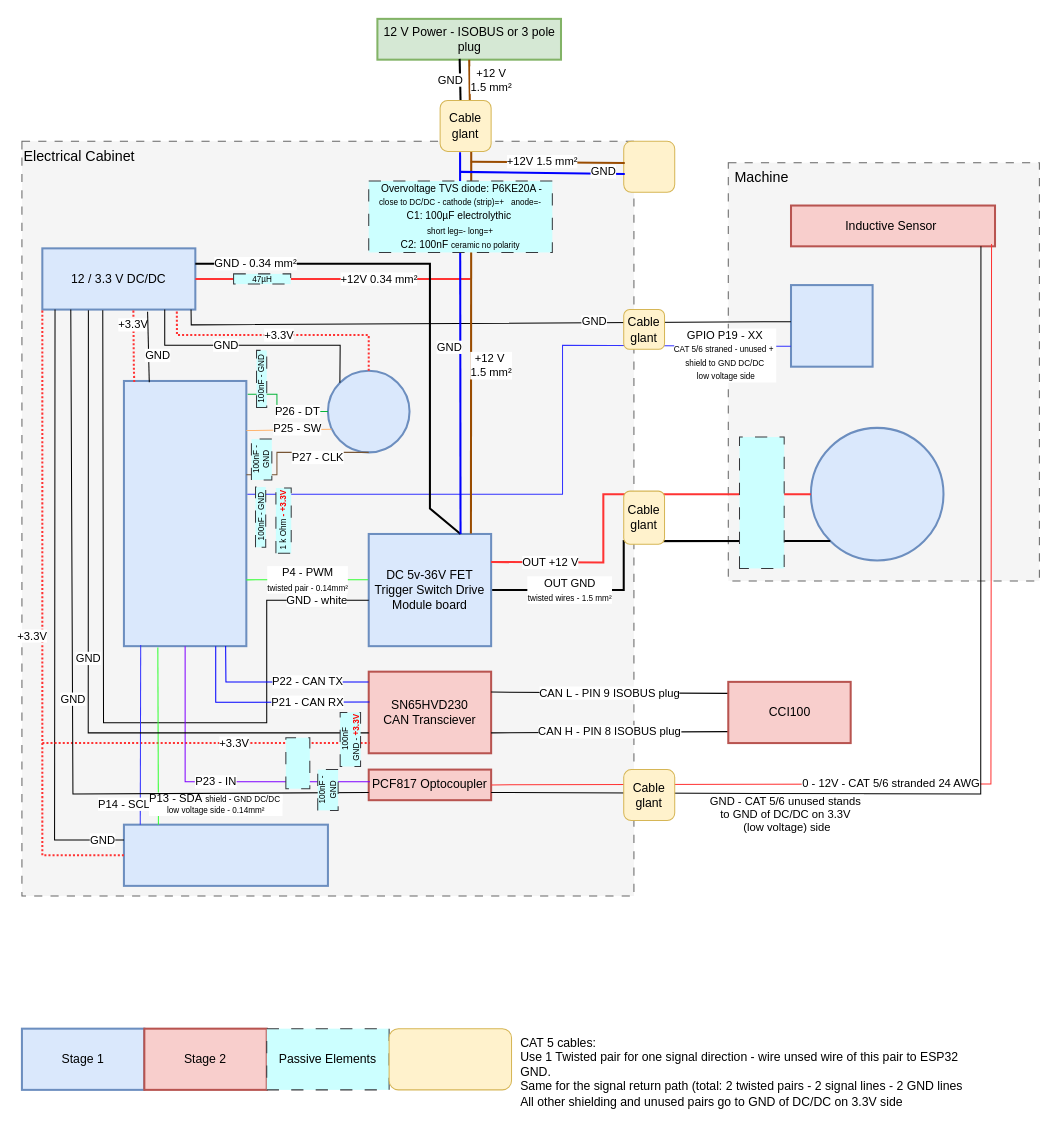
Image size: 1058x1127. Some labels were removed from this diagram. The box of each missing label's shape, as (x1, y1, x2, y2) in pixels:
20x4 I2C Display: (122, 823, 328, 886)
25 k Ohm - + 3.3V: (285, 737, 310, 789)
3 pole socket: (623, 140, 675, 192)
Connectors: (388, 1028, 512, 1090)
diode mbr2045 CT P2-OUT=+12V P1,3 OUT= GND: (738, 436, 784, 568)
ESP32 - Node MCU: (122, 379, 247, 647)
KY-040 encoder: (326, 369, 410, 453)
Motor 12 V, 10 A: (809, 426, 944, 561)
Reed Sensor: (789, 284, 873, 367)
